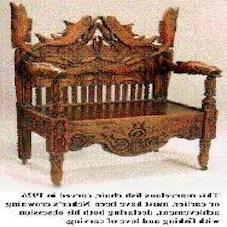chair: (3, 2, 221, 181)
